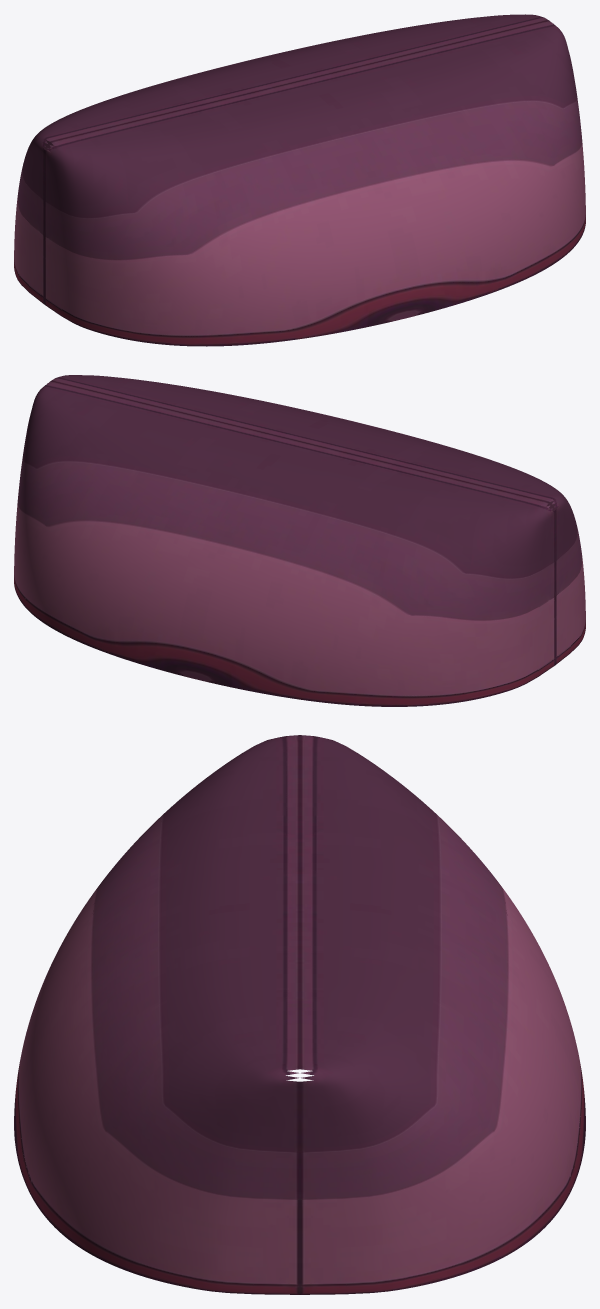
File: rear_wall.glb
3 views of the same model, one above another, from view 1: azimuth 30°, elevation 25°; view 2: azimuth 150°, elevation 25°; view 3: azimuth 270°, elevation 25° (orthographic). The views are drawn at different scales.
Visible parts, largest first — view 1: rear_wall; view 2: rear_wall; view 3: rear_wall.
Part boxes in pixels (x1,y1,x2,y2): rear_wall: (14,14,585,346); rear_wall: (14,375,585,706); rear_wall: (14,735,585,1294).
Size of the model in its own units: 0.989 by 0.2989 by 0.6977.
Materials: 1 (1 with a texture image).
